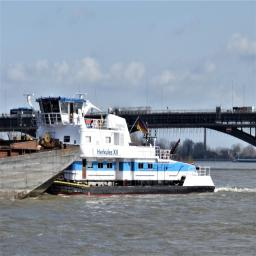tugboat: (19, 91, 219, 202)
